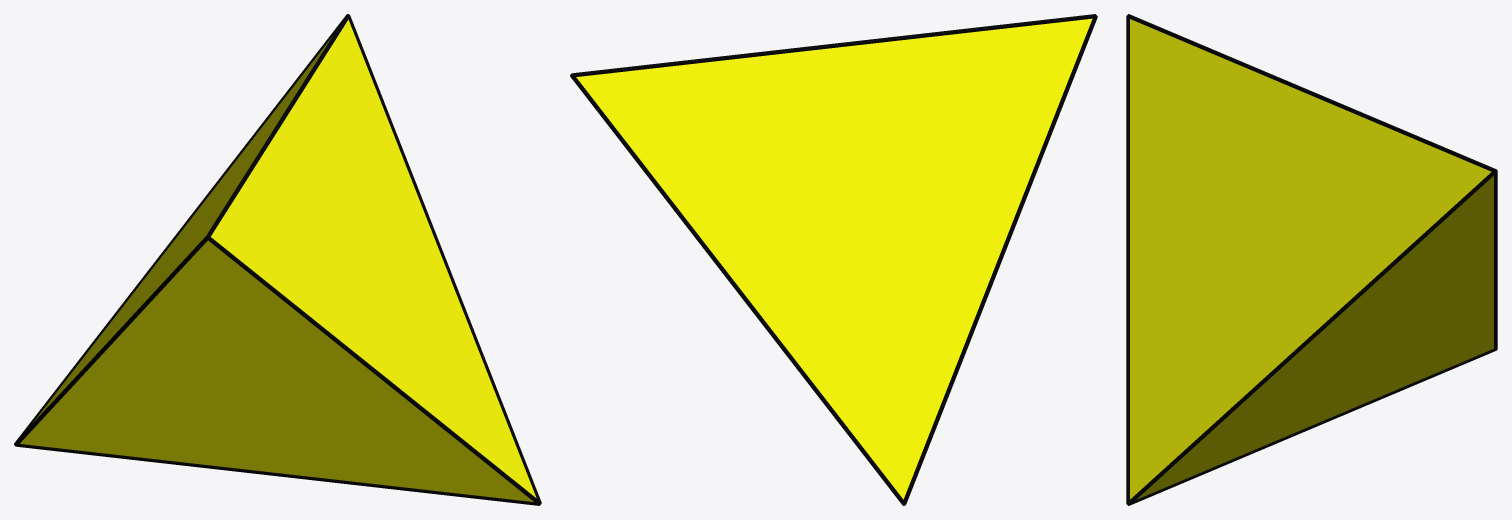
File: tetrahedron.glb
The picture shows the model from 3 angles, left to right: view 1: azimuth 30°, elevation 25°; view 2: azimuth 150°, elevation 25°; view 3: azimuth 270°, elevation 25°; orthographic projection. The views are drawn at different scales.
Parts seen in each view (by area): view 1: im_ffff00ff, im_edge_cylinder (×6); view 2: im_ffff00ff, im_edge_cylinder (×3); view 3: im_ffff00ff, im_edge_cylinder (×5).
Boxes of the visible parts, bbox=[...] form: im_ffff00ff: bbox=[20, 19, 536, 501]; im_edge_cylinder (×6): bbox=[14, 14, 541, 505]; im_ffff00ff: bbox=[576, 18, 1092, 499]; im_edge_cylinder (×3): bbox=[570, 14, 1097, 504]; im_ffff00ff: bbox=[1130, 19, 1493, 499]; im_edge_cylinder (×5): bbox=[1126, 14, 1497, 505].
Bounding box in the file's own units: 0.7151 × 0.7151 × 0.715.
